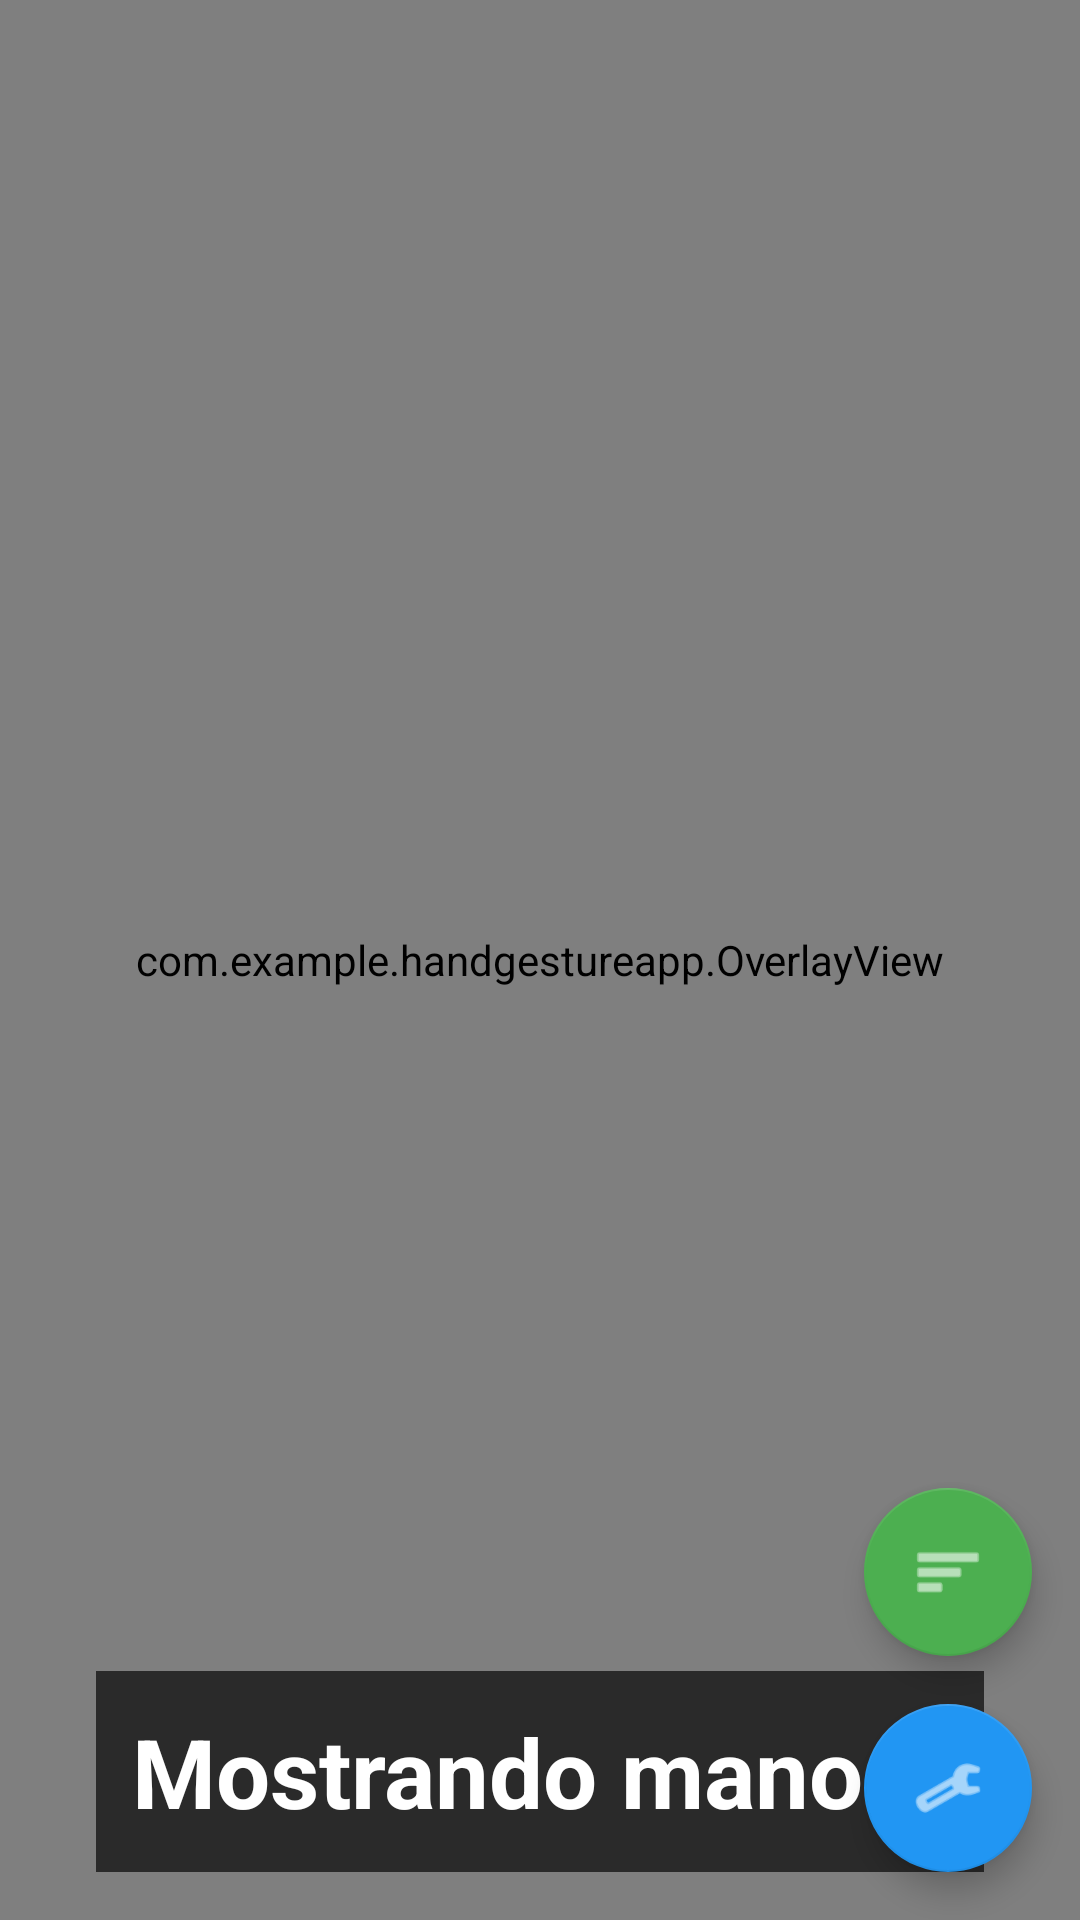

Icon click points for this 1080w x 1920h phone screenshot, format [x,y]:
Configuración: [948,1788]
